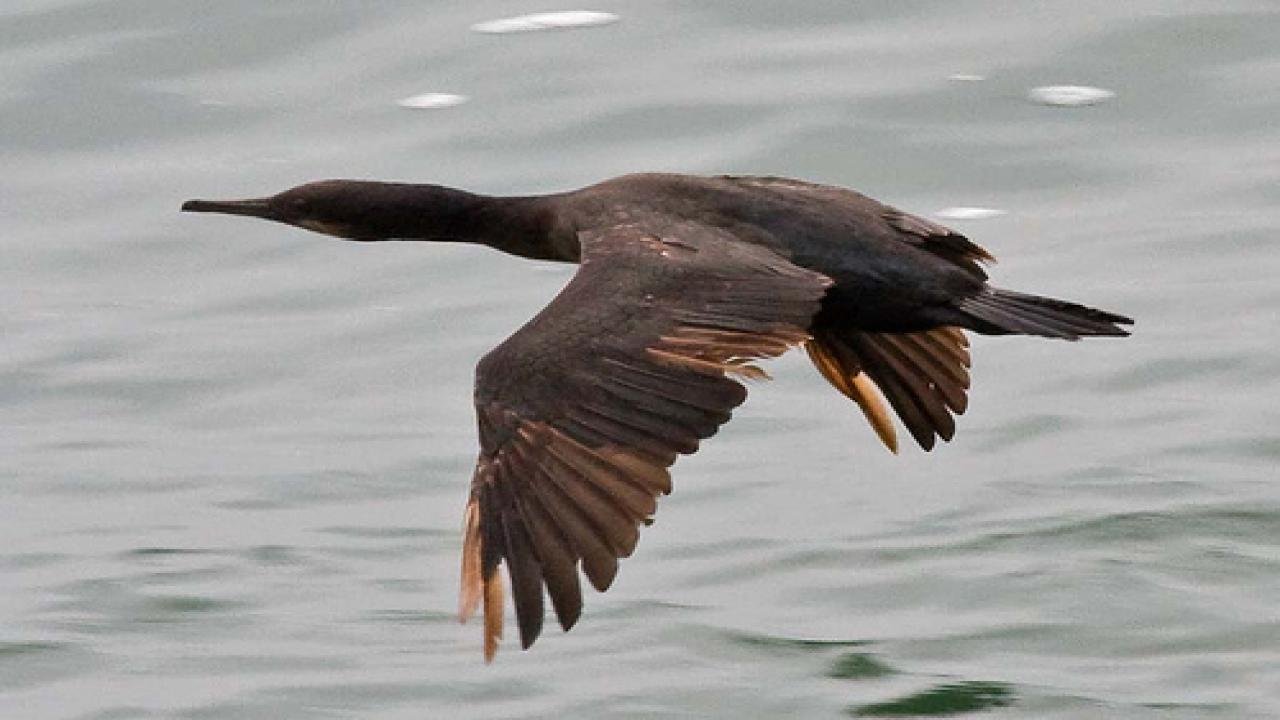Bird: (157, 148, 1157, 674)
